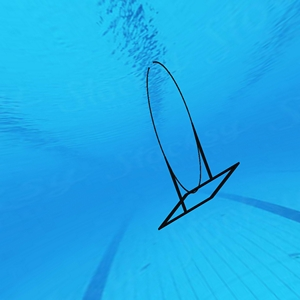circle: (142, 60, 243, 232)
